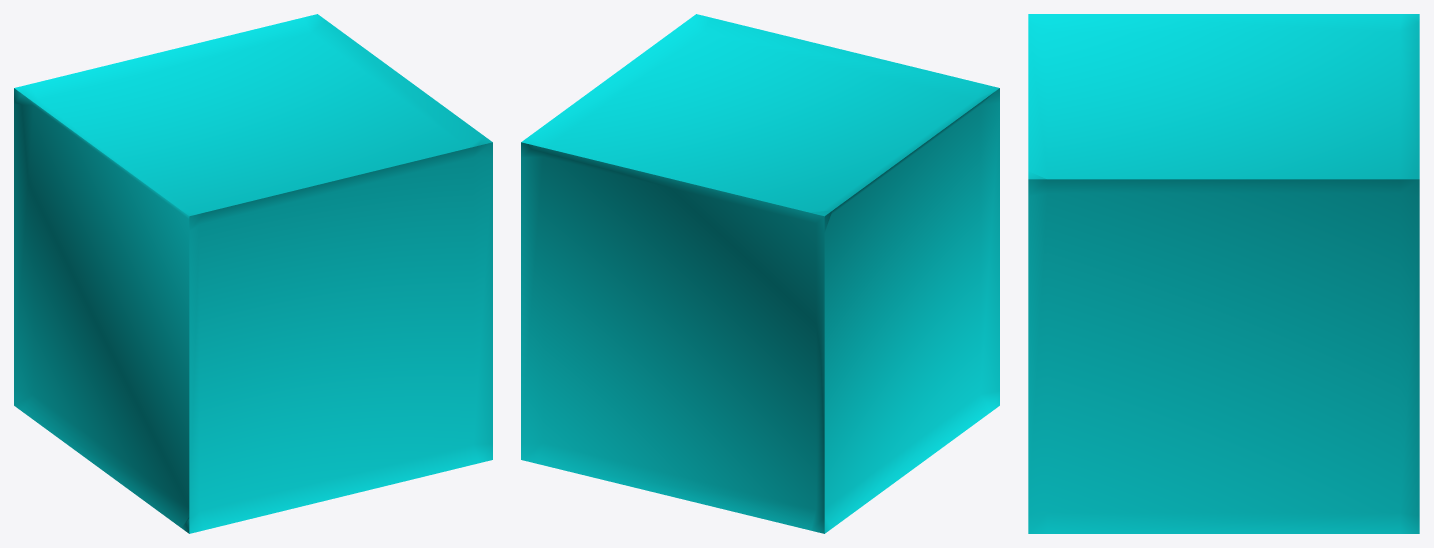
Rendered from BoxCyan.fbx.
3 renders of one model, left to right at view 1: azimuth 30°, elevation 25°; view 2: azimuth 150°, elevation 25°; view 3: azimuth 270°, elevation 25°, orthographic. The views are drawn at different scales.
Visible parts, largest first — view 1: pCube1; view 2: pCube1; view 3: pCube1.
Part boxes in pixels (box(x1,y1,x2,y2)): pCube1: box(14, 14, 492, 533); pCube1: box(521, 14, 999, 533); pCube1: box(1028, 14, 1419, 533).
Size of the model in its own units: 1.27 by 1.27 by 1.27.
